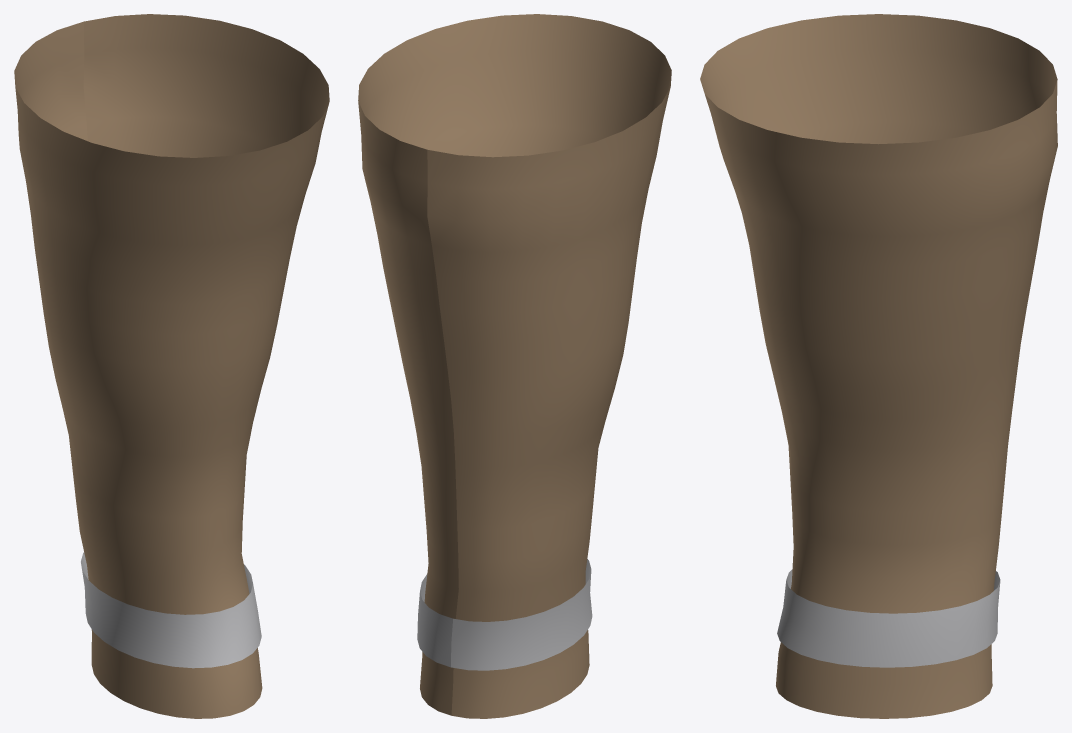
Rendered from BootLean_R.glb.
3 views of the same model, side by side, from view 1: azimuth 30°, elevation 25°; view 2: azimuth 150°, elevation 25°; view 3: azimuth 270°, elevation 25° (orthographic). The views are drawn at different scales.
Visible parts, largest first — view 1: BootLean_R; view 2: BootLean_R; view 3: BootLean_R.
Part boxes in pixels (x1,y1,x2,y2): BootLean_R: (14, 14, 329, 718); BootLean_R: (358, 14, 671, 718); BootLean_R: (700, 14, 1057, 718).
Bounding box in the file's own units: 0.162 × 0.35 × 0.1882.
